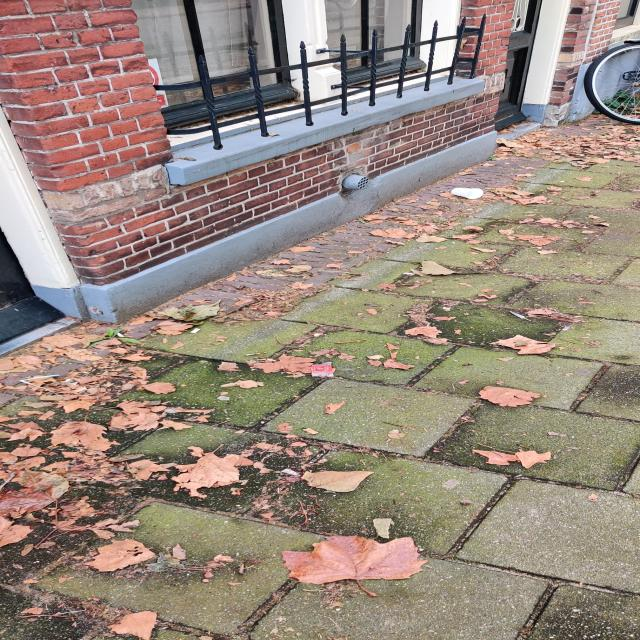litter: (440, 183, 506, 202), (300, 358, 339, 380)
